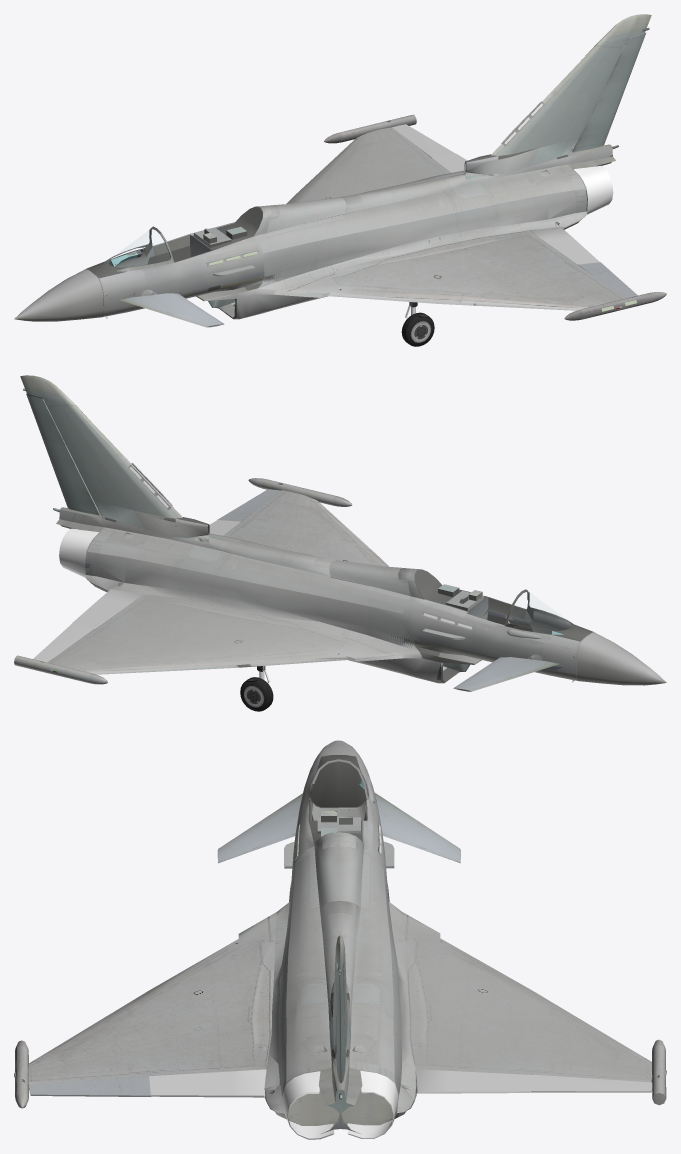
The picture shows the model from 3 angles, top to bottom: view 1: azimuth 30°, elevation 25°; view 2: azimuth 150°, elevation 25°; view 3: azimuth 270°, elevation 25°; orthographic projection. The views are drawn at different scales.
Parts seen in each view (by area): view 1: Fuselage, Fuselage.004, Fuselage.007, Fuselage.008, Fuselage.002, Fuselage.013, Rudder, Speedbrake, Canard.L, Cowling, FlaperonInner.L, Fuselage.003 (+4 smaller); view 2: Fuselage, Fuselage.002, Fuselage.006, Fuselage.008, Fuselage.004, Fuselage.013, Rudder, Fuselage.007, Speedbrake, Canard.R, FlaperonInner.R, Cowling (+5 smaller); view 3: Fuselage.004, Fuselage.002, Fuselage, Fuselage.007, Fuselage.006, Speedbrake, Cowling, FlaperonInner.L, FlaperonInner.R, Canard.R, Canard.L, FlaperonOuter.L (+6 smaller).
Boxes of the visible parts, x1,y1,x2,y2 form: Fuselage: [14, 161, 592, 321]; Fuselage.004: [273, 230, 625, 310]; Fuselage.007: [254, 164, 585, 253]; Fuselage.008: [491, 14, 651, 155]; Fuselage.002: [286, 127, 451, 203]; Fuselage.013: [459, 137, 615, 186]; Rudder: [572, 32, 645, 152]; Speedbrake: [266, 197, 346, 232]; Canard.L: [119, 293, 224, 327]; Cowling: [574, 165, 613, 214]; FlaperonInner.L: [529, 228, 599, 264]; Fuselage.003: [564, 292, 666, 320]; Fuselage: [79, 524, 666, 685]; Fuselage.002: [47, 594, 403, 674]; Fuselage.006: [87, 527, 407, 613]; Fuselage.008: [20, 375, 182, 518]; Fuselage.004: [223, 490, 389, 566]; Fuselage.013: [56, 500, 215, 549]; Rudder: [26, 393, 100, 515]; Fuselage.007: [208, 533, 423, 599]; Speedbrake: [329, 560, 410, 600]; Canard.R: [453, 657, 559, 691]; FlaperonInner.R: [72, 589, 143, 628]; Cowling: [59, 528, 98, 577]; Fuselage.004: [28, 912, 276, 1083]; Fuselage.002: [402, 912, 652, 1082]; Fuselage: [264, 740, 416, 1133]; Fuselage.007: [286, 832, 363, 1082]; Fuselage.006: [349, 857, 394, 1082]; Speedbrake: [315, 842, 371, 908]; Cowling: [282, 1070, 398, 1139]; FlaperonInner.L: [149, 1069, 266, 1097]; FlaperonInner.R: [415, 1069, 532, 1093]; Canard.R: [374, 793, 460, 863]; Canard.L: [217, 793, 302, 863]; FlaperonOuter.L: [29, 1076, 151, 1096].
Size of the model in its own units: 16.3 by 5.76 by 10.91.
Materials: 8 (4 with a texture image).
